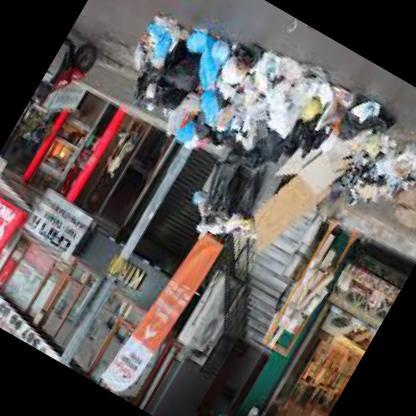Garbage: (89, 0, 343, 201), (116, 18, 198, 112), (331, 82, 408, 170), (195, 7, 271, 94), (155, 95, 227, 170), (168, 26, 237, 104), (202, 148, 270, 222), (184, 76, 251, 142), (253, 79, 317, 146), (135, 5, 196, 72), (335, 157, 397, 216), (188, 200, 245, 248), (401, 125, 415, 183)
